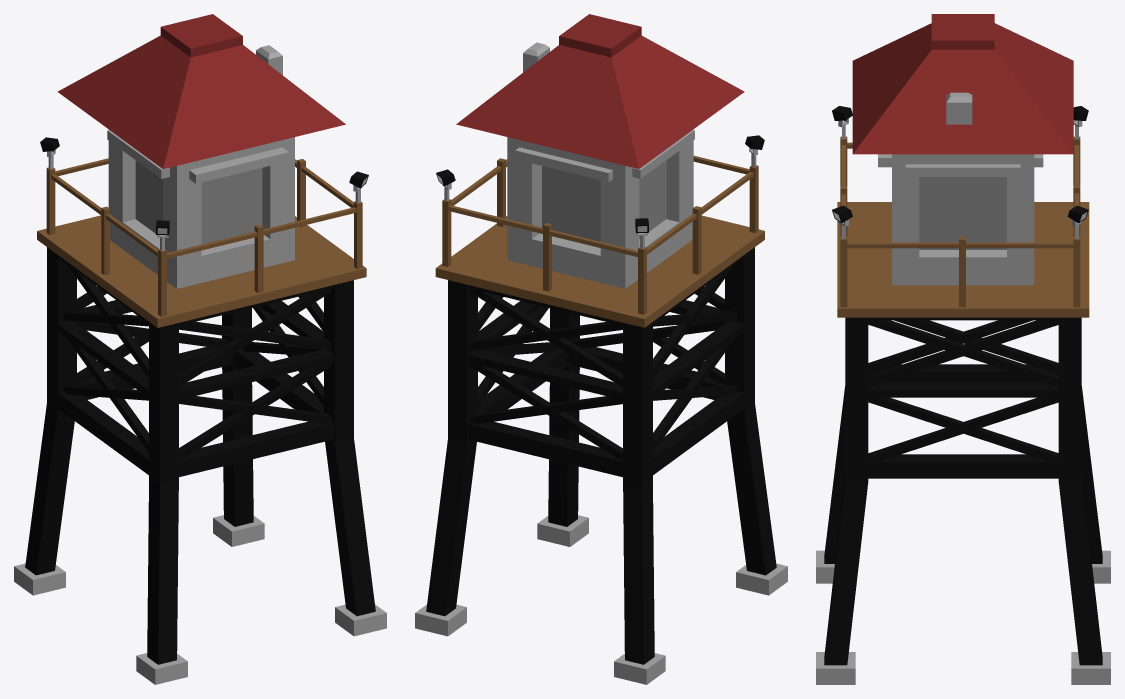
The model's file is GuardTower.fbx.
The picture shows the model from 3 angles, left to right: view 1: azimuth 30°, elevation 25°; view 2: azimuth 150°, elevation 25°; view 3: azimuth 270°, elevation 25°; orthographic projection. The views are drawn at different scales.
Visible parts, largest first — view 1: GuardTower; view 2: GuardTower; view 3: GuardTower.
Boxes of the visible parts, x1=… form: GuardTower: x1=14, y1=14, x2=386, y2=684; GuardTower: x1=415, y1=14, x2=787, y2=684; GuardTower: x1=816, y1=14, x2=1110, y2=684.
Size of the model in its own units: 1139 by 2693 by 1201.
